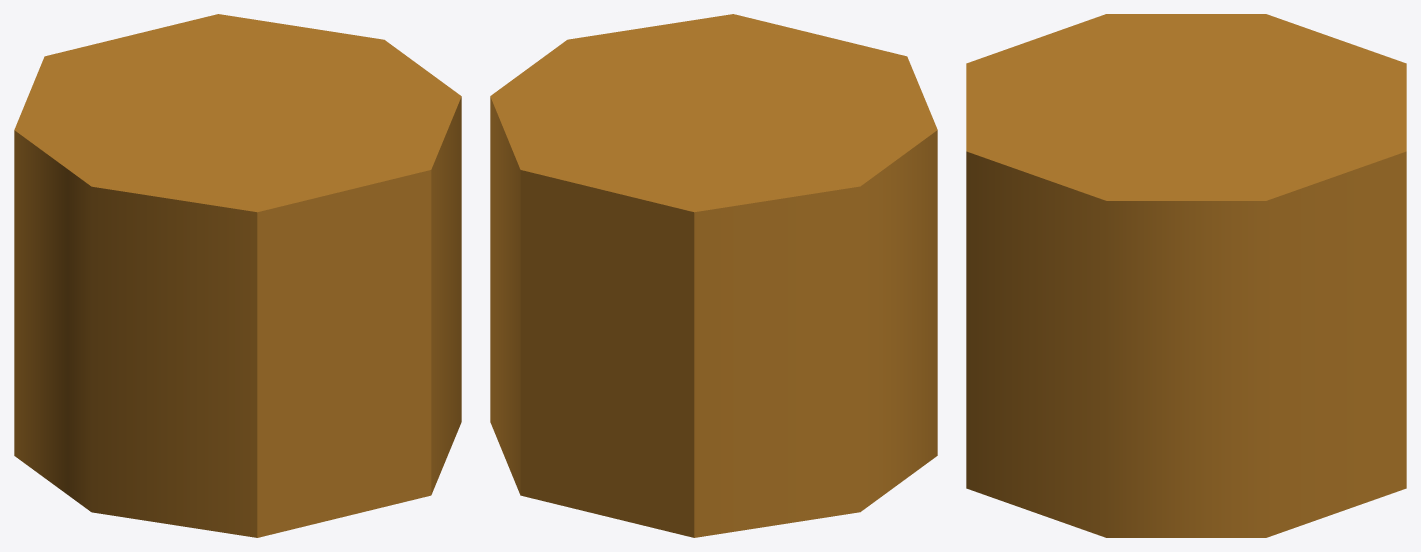
File: dizuo.fbx
The picture shows the model from 3 angles, left to right: view 1: azimuth 30°, elevation 25°; view 2: azimuth 150°, elevation 25°; view 3: azimuth 270°, elevation 25°; orthographic projection. The views are drawn at different scales.
Parts seen in each view (by area): view 1: 图形002; view 2: 图形002; view 3: 图形002.
Boxes of the visible parts, bbox=[...] form: 图形002: bbox=[14, 14, 461, 537]; 图形002: bbox=[490, 14, 937, 537]; 图形002: bbox=[966, 14, 1406, 537].
Bounding box in the file's own units: 3097 × 2604 × 3085.
